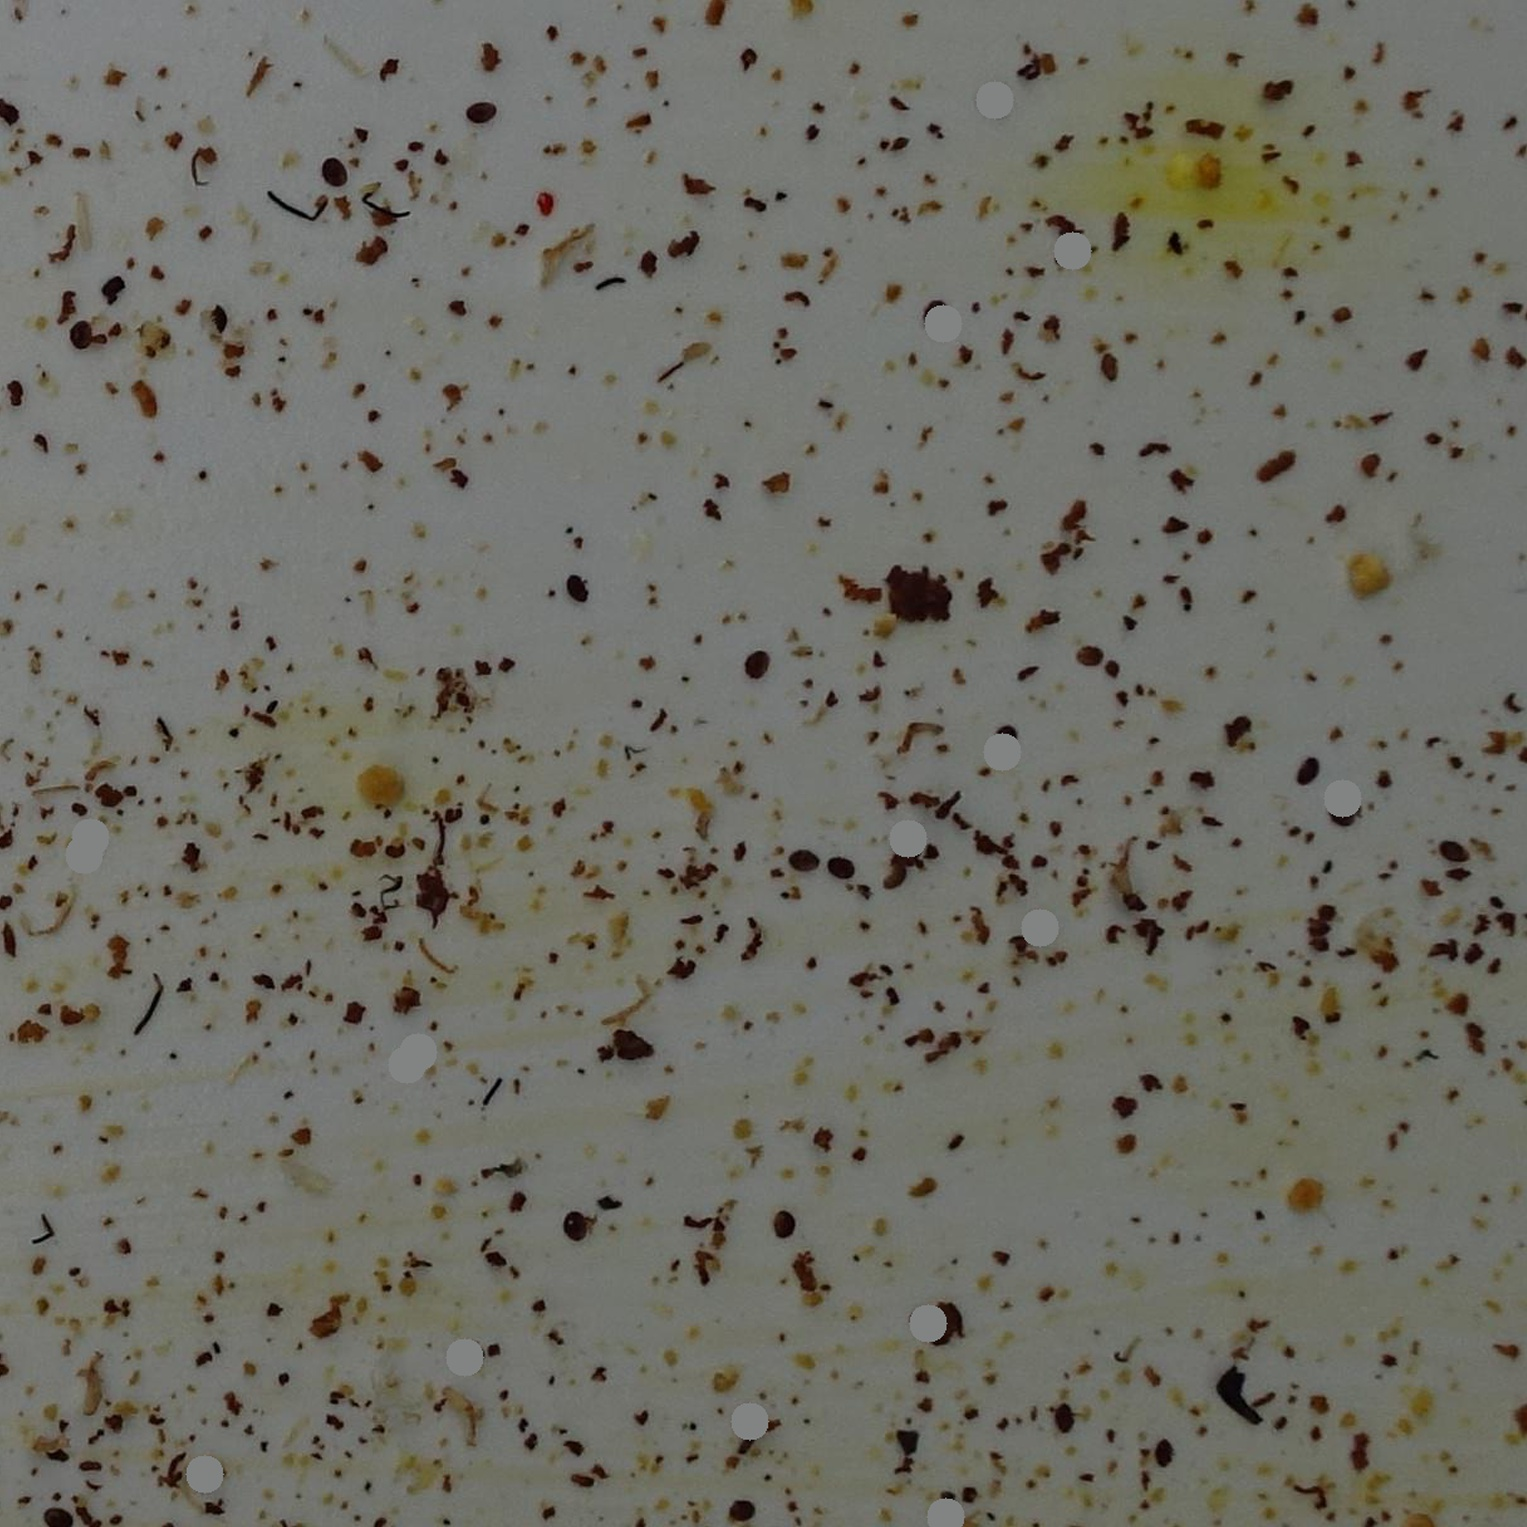Varroa: (1292, 757, 1321, 786), (740, 647, 769, 675), (1053, 1405, 1082, 1433), (1439, 835, 1467, 861), (1154, 1435, 1177, 1463), (206, 305, 229, 333), (69, 322, 89, 350), (1075, 639, 1099, 663), (789, 847, 812, 871), (772, 1208, 794, 1231), (994, 723, 1015, 747), (468, 96, 491, 117), (571, 578, 585, 590), (924, 303, 937, 317), (330, 162, 343, 173), (569, 1219, 580, 1232), (1338, 807, 1349, 817), (737, 1510, 748, 1519), (832, 868, 845, 875)
